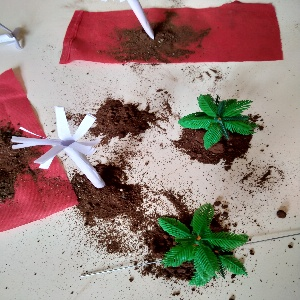plant: (150, 206, 249, 285), (181, 87, 256, 151)
weed: (12, 103, 107, 194), (125, 3, 170, 46), (1, 25, 24, 54)
